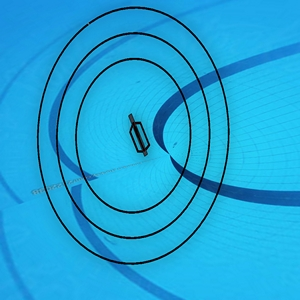circle: (32, 5, 233, 269)
submarine: (126, 115, 152, 156)
